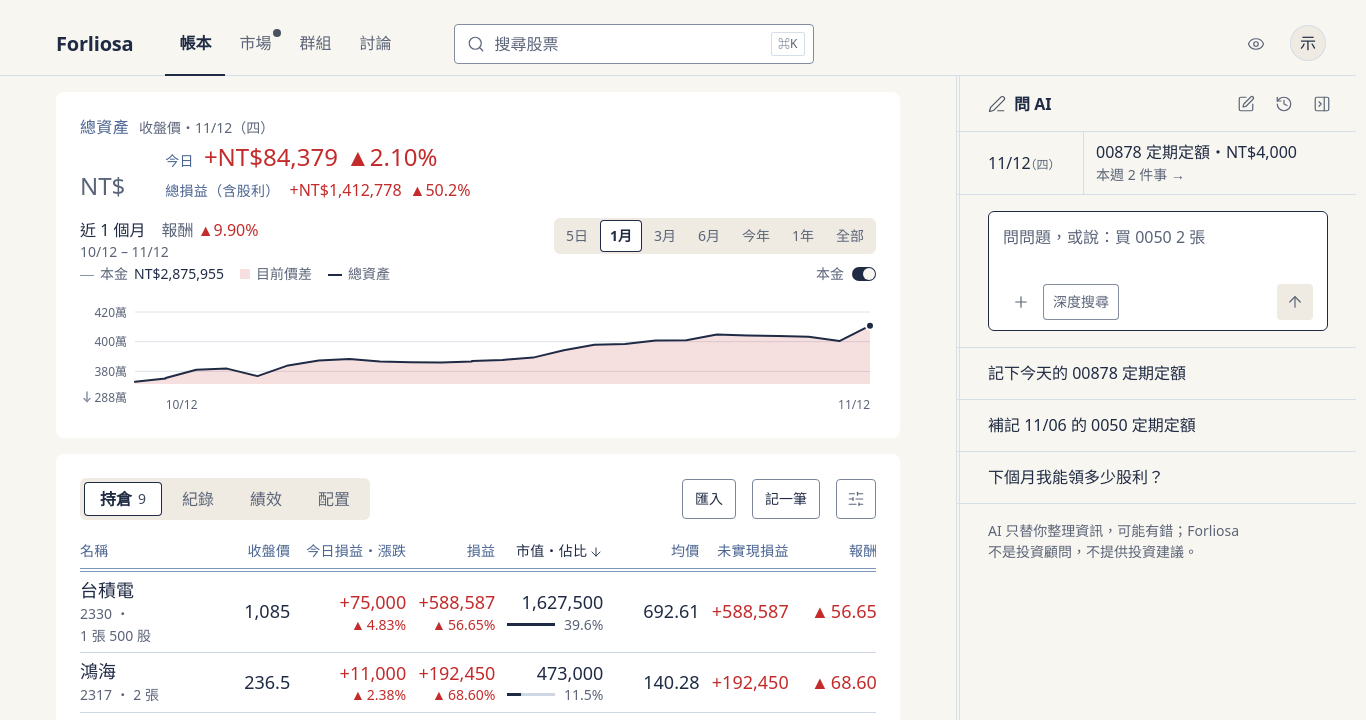
Test case: 持倉表的「損益」欄 › 按表頭「損益」照未實現損益的金額排（大到小，再按一次小到大）；和「未實現損益」一起開著時只標「損益」那一欄
Later steps or results of the test are not shown.
Check: the link "台積電" is shown, box [80,578,134,602]
What coordinates should you click on to do the following:
click the button "損益"
I would click on:
 (481, 552)
Its box is [463,536,499,568].
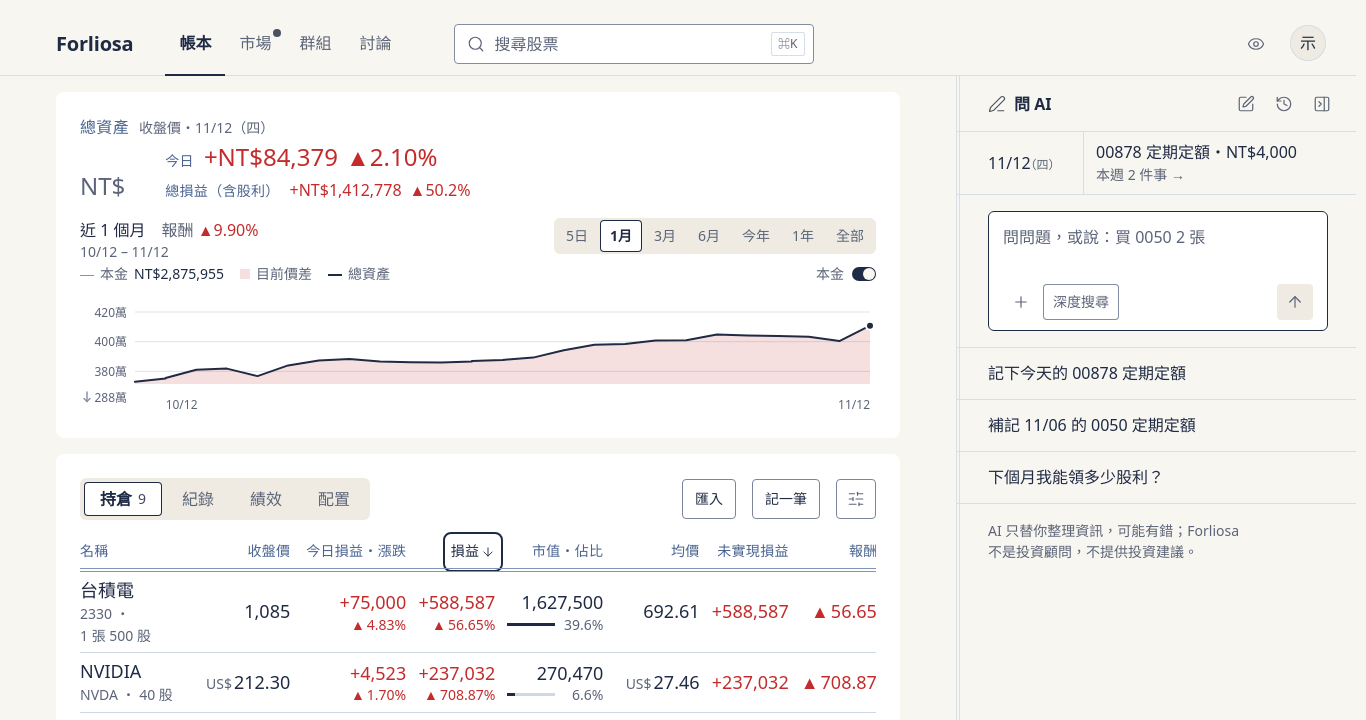
Check: the column heading "損益" has attribute aria-sort="descending", box [406,532,495,572]
